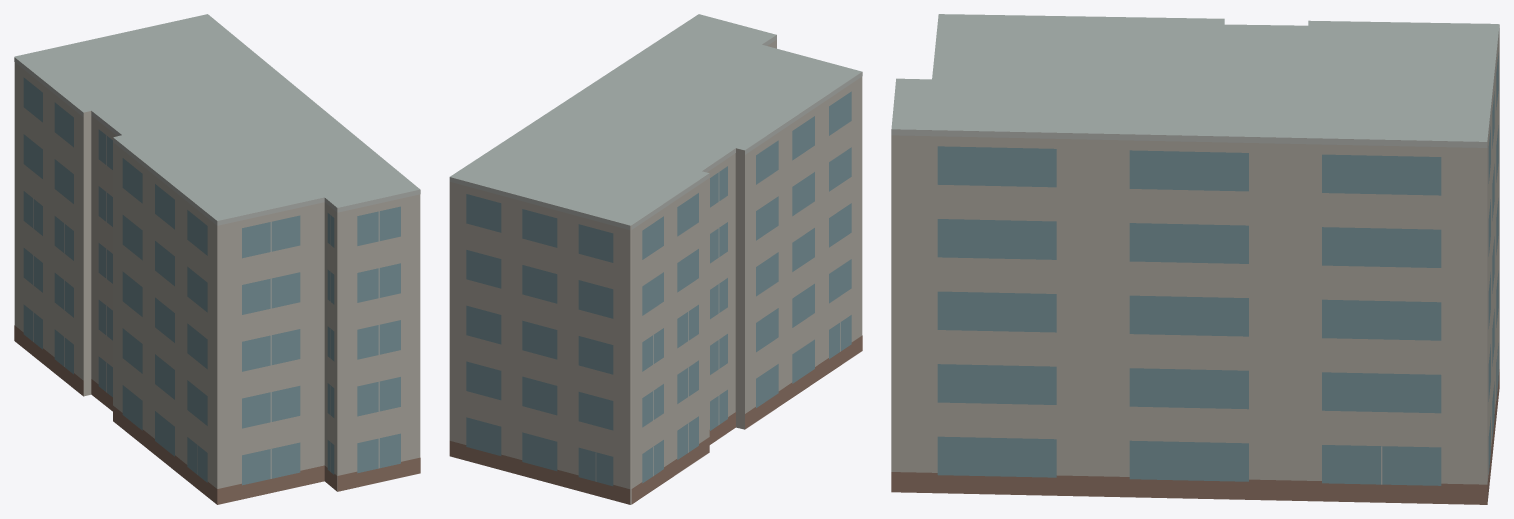
The model's file is survey-upis-32705390.glb.
3 renders of one model, left to right at view 1: azimuth 30°, elevation 25°; view 2: azimuth 150°, elevation 25°; view 3: azimuth 270°, elevation 25°, orthographic. The views are drawn at different scales.
Parts seen in each view (by area): view 1: survey-upis-32705390.tmp; view 2: survey-upis-32705390.tmp; view 3: survey-upis-32705390.tmp.
Boxes of the visible parts, x1,y1,x2,y2 form: survey-upis-32705390.tmp: (14, 14, 420, 504); survey-upis-32705390.tmp: (449, 14, 862, 504); survey-upis-32705390.tmp: (891, 14, 1499, 504).
Size of the model in its own units: 11.06 by 14.62 by 22.21.
